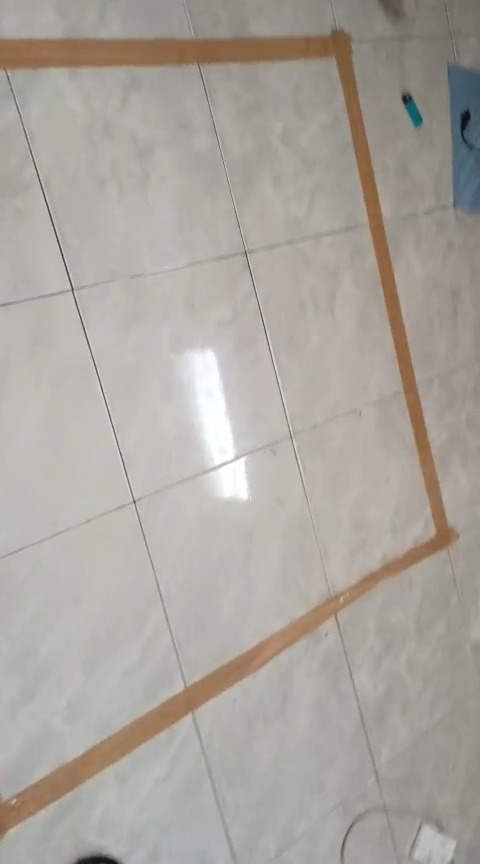floor marking: (0, 30, 457, 836)
